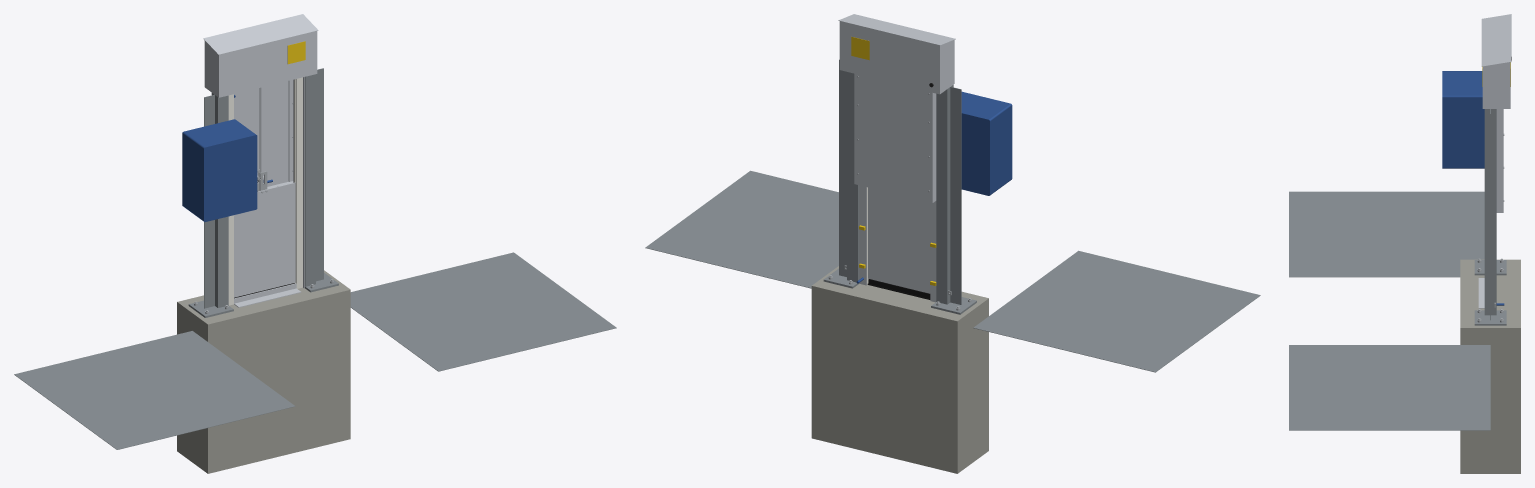
Rendered from DuckDoor_Baugruppe.glb.
3 views of the same model, side by side, from view 1: azimuth 30°, elevation 25°; view 2: azimuth 150°, elevation 25°; view 3: azimuth 270°, elevation 25° (orthographic). The views are drawn at different scales.
Parts seen in each view (by area): view 1: P01_Streifenfundament, P02_Schuerze_rechts_vereinfacht, P02_Schuerze_links_vereinfacht, K1_U1_Schaltkasten, P13_Schieberblech, P35_Antriebskasten, P33_Sturzblende, P07_Pfosten_links, P36_Kastendeckel, P09_Fuehrungsprofil_links, P04_Spaltabdeckung_links, P07_Pfosten_rechts (+3 smaller); view 2: P01_Streifenfundament, P02_Schuerze_rechts_vereinfacht, P02_Schuerze_links_vereinfacht, P33_Sturzblende, P13_Schieberblech, P35_Antriebskasten, K1_U1_Schaltkasten, P07_Pfosten_rechts, P04_Spaltabdeckung_rechts, P07_Pfosten_links, P04_Spaltabdeckung_links, P36_Kastendeckel (+2 smaller); view 3: P02_Schuerze_links_vereinfacht, P02_Schuerze_rechts_vereinfacht, P01_Streifenfundament, K1_U1_Schaltkasten, P07_Pfosten_links, P36_Kastendeckel, P35_Antriebskasten, P10_Kanalwange_links, P05_Fussplatte_links, P05_Fussplatte_rechts.
Boxes of the visible parts, <box> form: P01_Streifenfundament: <box>177,270,350,473</box>; P02_Schuerze_rechts_vereinfacht: <box>14,331,295,449</box>; P02_Schuerze_links_vereinfacht: <box>350,252,616,371</box>; K1_U1_Schaltkasten: <box>182,119,257,221</box>; P13_Schieberblech: <box>234,182,295,297</box>; P35_Antriebskasten: <box>204,31,317,97</box>; P33_Sturzblende: <box>234,81,288,186</box>; P07_Pfosten_links: <box>304,74,315,286</box>; P36_Kastendeckel: <box>203,14,318,54</box>; P09_Fuehrungsprofil_links: <box>294,77,302,288</box>; P04_Spaltabdeckung_links: <box>316,68,323,281</box>; P07_Pfosten_rechts: <box>211,93,228,307</box>; P01_Streifenfundament: <box>811,266,988,473</box>; P02_Schuerze_rechts_vereinfacht: <box>973,250,1260,372</box>; P02_Schuerze_links_vereinfacht: <box>645,170,838,288</box>; P33_Sturzblende: <box>854,73,932,202</box>; P13_Schieberblech: <box>868,187,930,293</box>; P35_Antriebskasten: <box>839,21,954,94</box>; K1_U1_Schaltkasten: <box>961,91,1012,195</box>; P07_Pfosten_rechts: <box>936,85,953,304</box>; P04_Spaltabdeckung_rechts: <box>950,86,961,304</box>; P07_Pfosten_links: <box>847,72,859,282</box>; P04_Spaltabdeckung_links: <box>839,59,846,276</box>; P36_Kastendeckel: <box>838,14,955,45</box>; P02_Schuerze_links_vereinfacht: <box>1289,345,1490,430</box>; P02_Schuerze_rechts_vereinfacht: <box>1289,191,1484,277</box>; P01_Streifenfundament: <box>1460,259,1520,473</box>; K1_U1_Schaltkasten: <box>1442,71,1484,168</box>; P07_Pfosten_links: <box>1484,109,1496,315</box>; P36_Kastendeckel: <box>1481,14,1511,66</box>; P35_Antriebskasten: <box>1482,62,1510,108</box>; P10_Kanalwange_links: <box>1496,109,1502,212</box>; P05_Fussplatte_links: <box>1474,310,1506,325</box>; P05_Fussplatte_rechts: <box>1474,260,1506,275</box>.
Size of the model in its own units: 2800 by 2201 by 1150.
